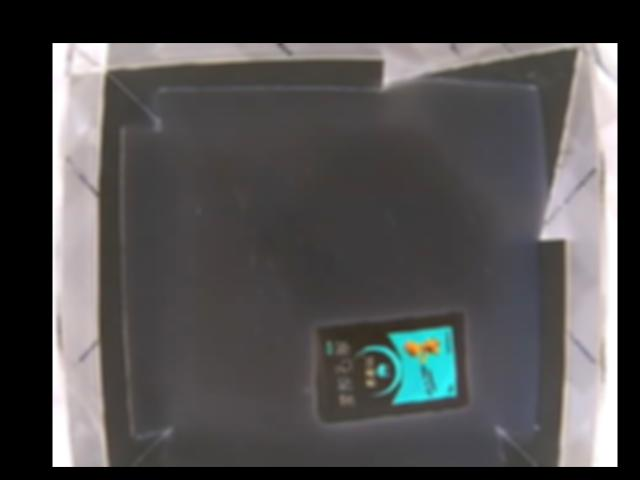Medicine: (313, 307, 470, 423)
